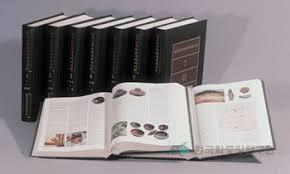book: (21, 11, 207, 122), (30, 77, 275, 160)
